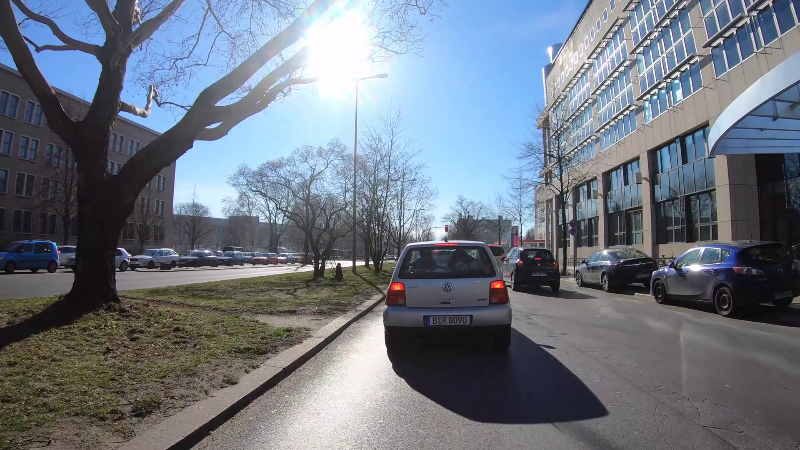Plate: (422, 315, 472, 327), (772, 287, 794, 300), (530, 270, 548, 277), (634, 271, 650, 278)
